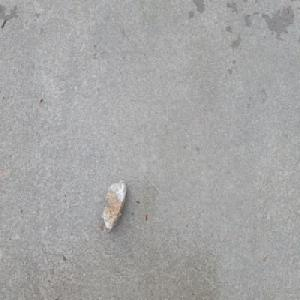Rock: (100, 177, 127, 233)
